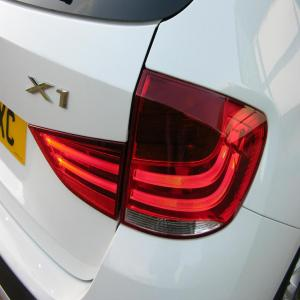Vehicle-registration-plate: (1, 103, 28, 166)
